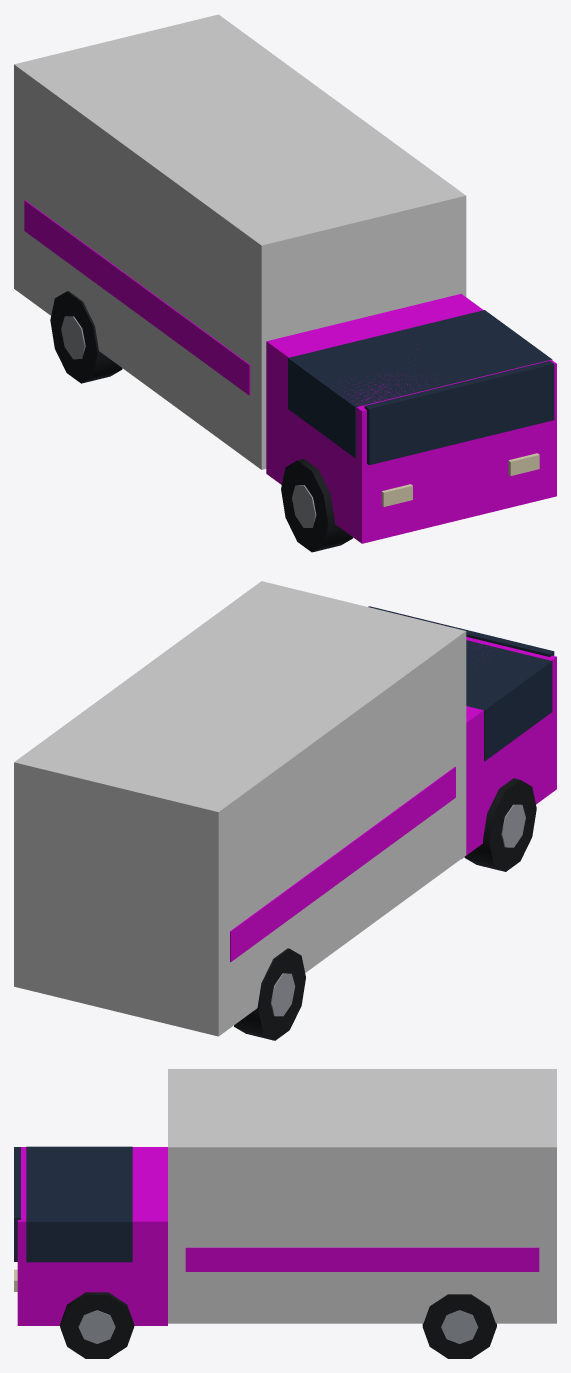
The model's file is van.glb.
3 renders of one model, top to bottom at view 1: azimuth 30°, elevation 25°; view 2: azimuth 150°, elevation 25°; view 3: azimuth 270°, elevation 25°, orthographic. The views are drawn at different scales.
Parts seen in each view (by area): view 1: body; view 2: body; view 3: body.
Part boxes in pixels (<box>): body: <box>14,14,556,552</box>; body: <box>14,581,556,1040</box>; body: <box>14,1069,556,1358</box>.
Size of what is drawn, in the model's own units: 2.16 by 2.63 by 6.14.
